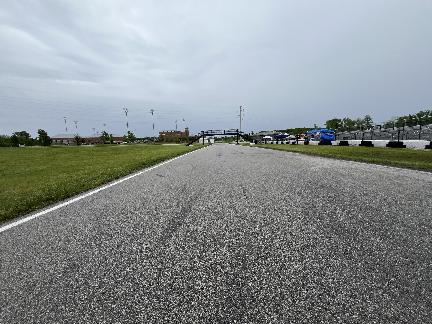Grass: (0, 145, 202, 221), (255, 145, 431, 170)
Lane: (0, 145, 431, 323)
